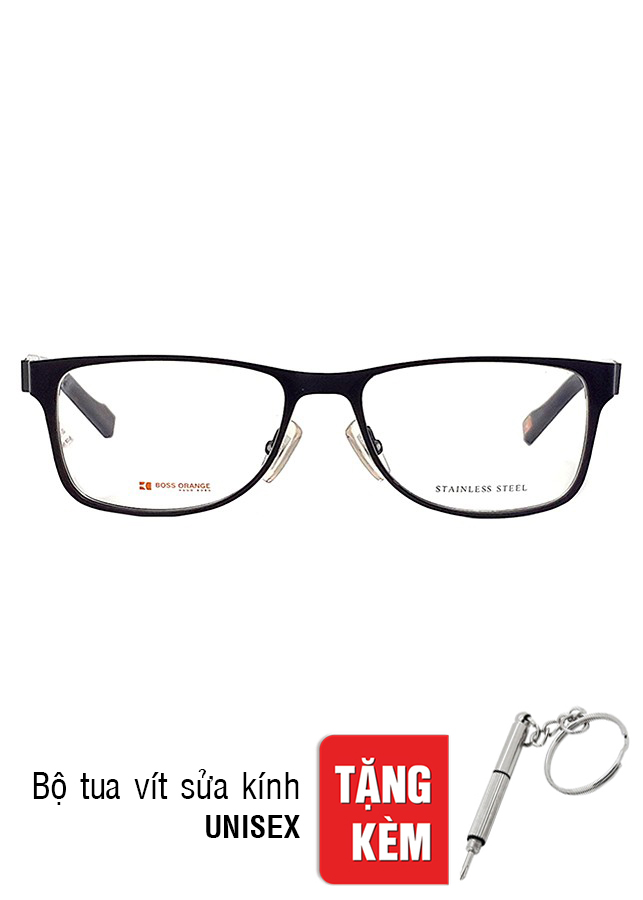Hugo Boss: (134, 475, 215, 495)
